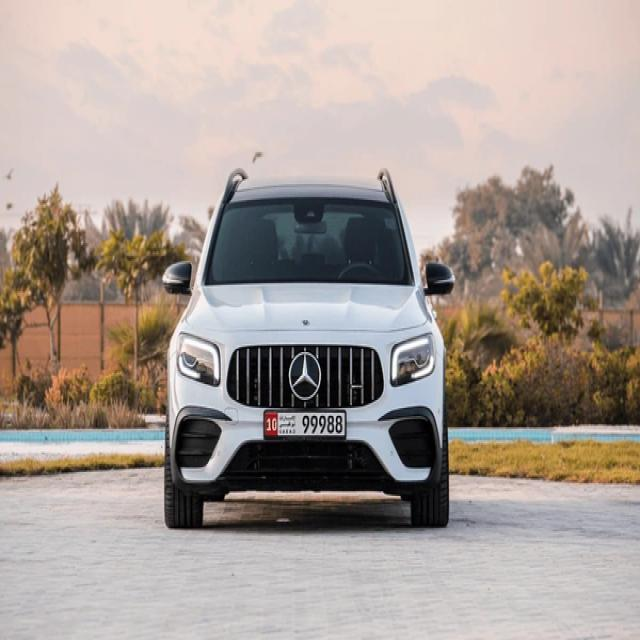mercedes: (288, 351, 322, 403)
